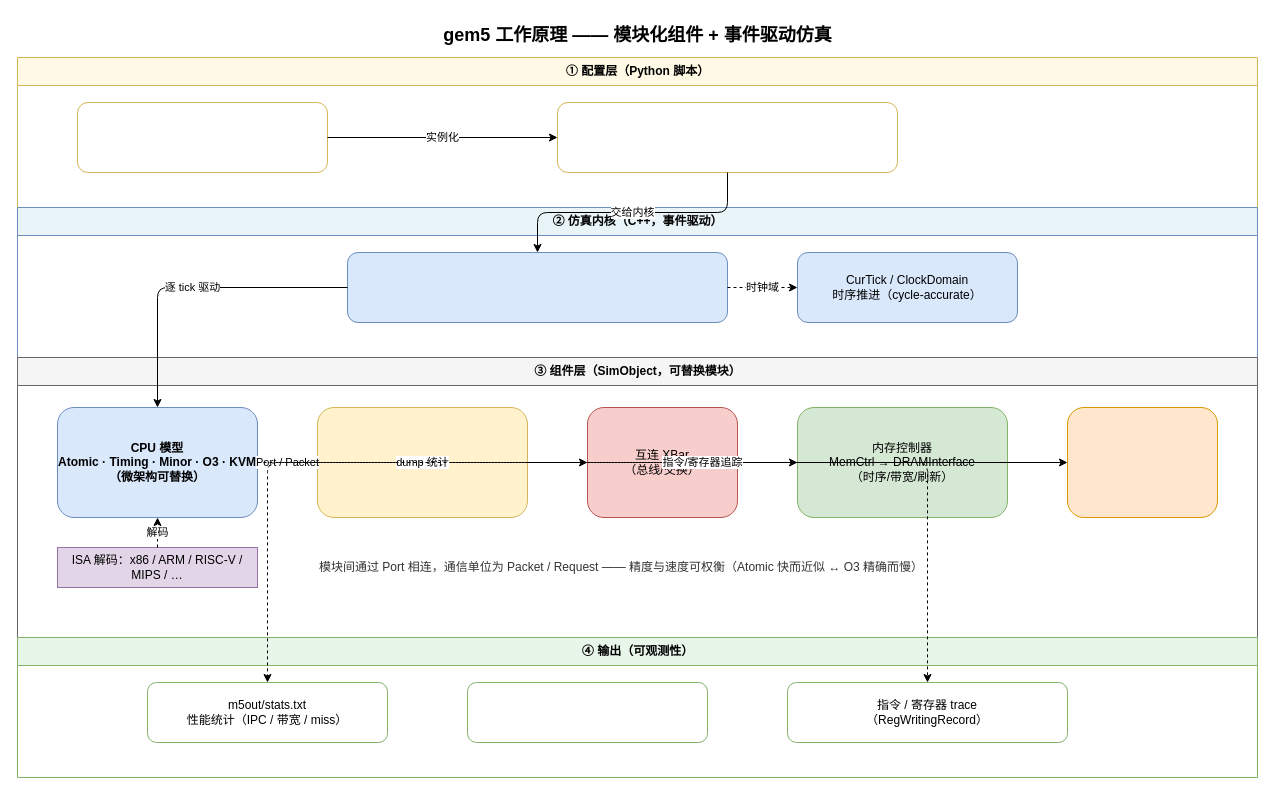
The diagram is 1275 pixels wide and 795 high, and some of its shapes have lost their labels. Each missing label, with the centre of its shape:
"configs/*.py 用户 Python 配置脚本" belongs at pixel 202 137.
"m5out/config.ini 实例化后的参数树" belongs at pixel 587 712.
"事件驱动引擎 EventQueue 每个 tick 取最早事件执行" belongs at pixel 537 287.
"实例化 SimObject 树 System → CPU → Cache → MemCtrl" belongs at pixel 727 137.
"缓存层次 L1 I$/D$ → L2 （大小/替换策略可配）" belongs at pixel 422 462.
"设备 Dev 磁盘 / 网卡 / PCI" belongs at pixel 1142 462.
